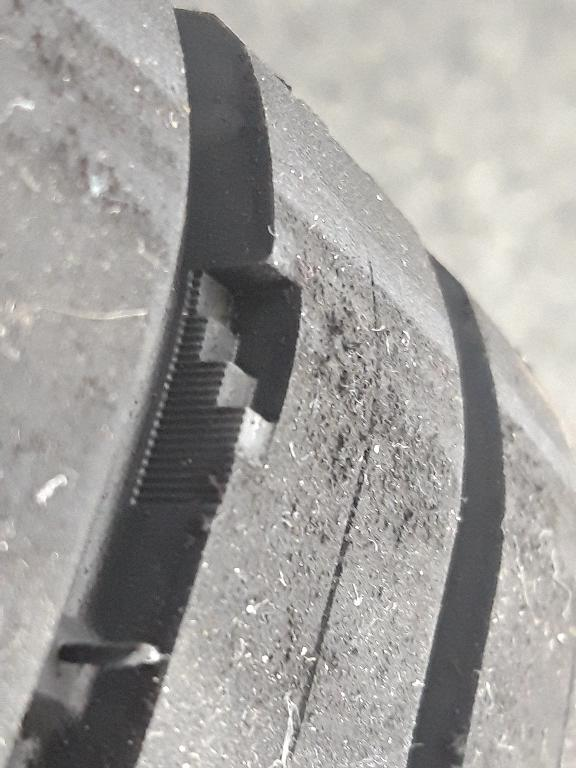temoin:75: (144, 248, 308, 483)
